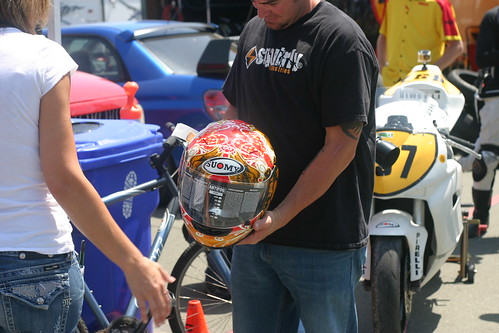helmet: (169, 117, 284, 246)
